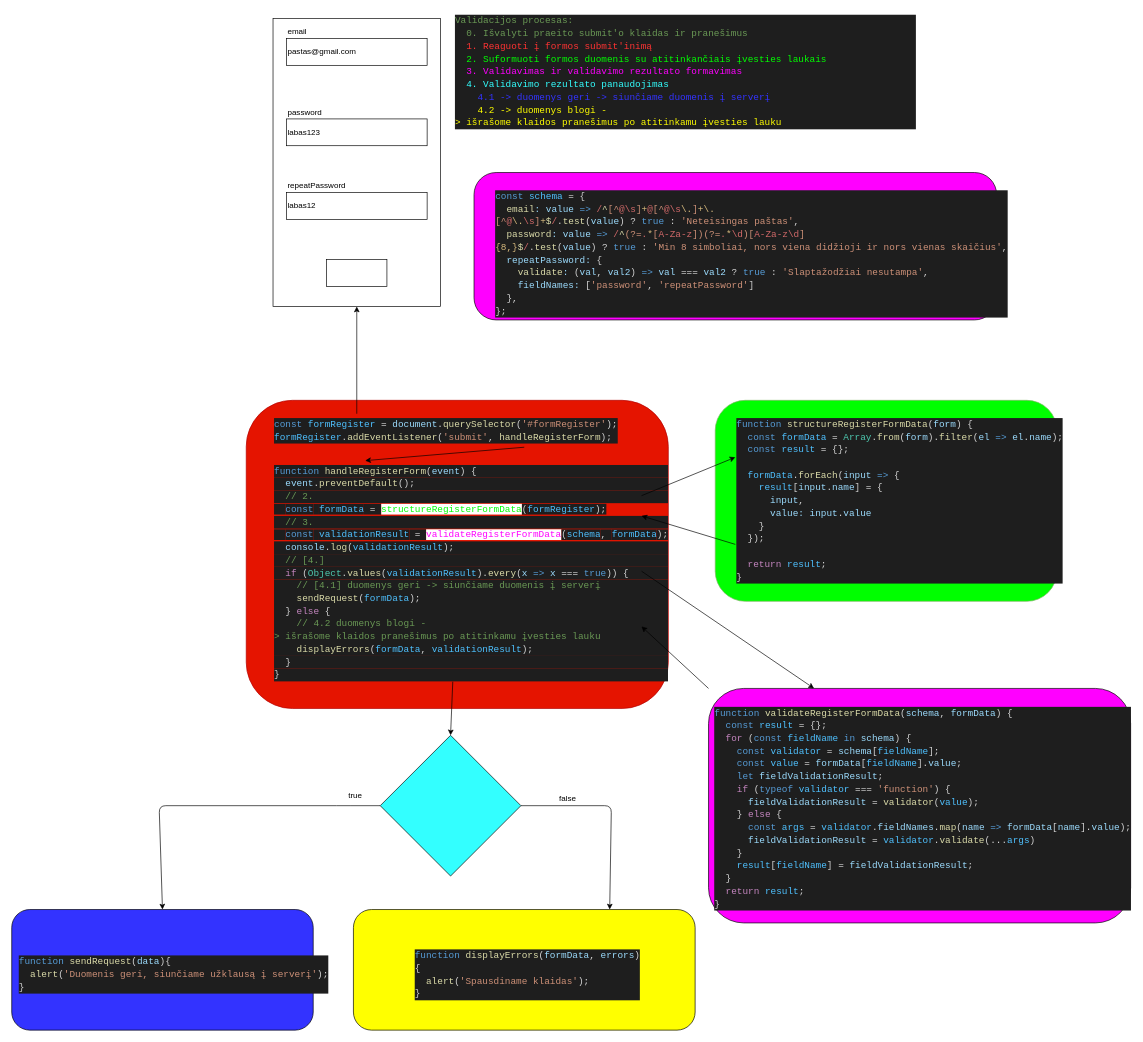
The diagram is 1143 pixels wide and 1042 high, and some of its shapes have lost their labels. The shapes that lost their labels are listed below. From the top down, each one's centre as x and y in pixels, then its label:
(356,272): submit
(450,805): Ar formos duomenys teisingi
